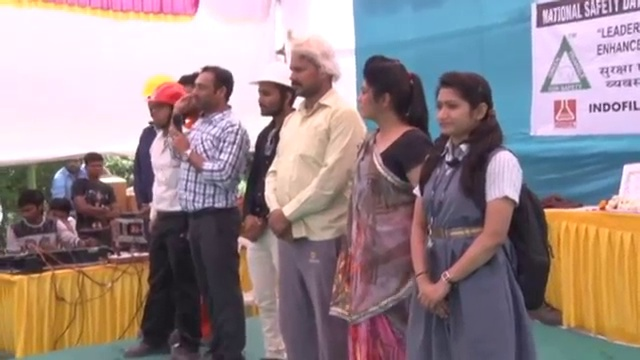helmet: (246, 62, 292, 90), (144, 80, 185, 109)
helmet_off: (429, 69, 498, 151), (355, 53, 422, 132), (279, 35, 345, 100), (181, 67, 236, 111), (16, 189, 44, 226), (47, 198, 71, 225), (80, 154, 101, 183), (65, 157, 83, 176)
helmet_on: (245, 62, 292, 125), (144, 80, 183, 134)
person: (408, 68, 556, 360), (264, 34, 369, 359), (343, 49, 436, 359), (164, 66, 252, 360), (121, 72, 201, 359), (242, 62, 290, 360), (4, 188, 97, 256), (74, 154, 115, 234), (50, 157, 85, 200)
